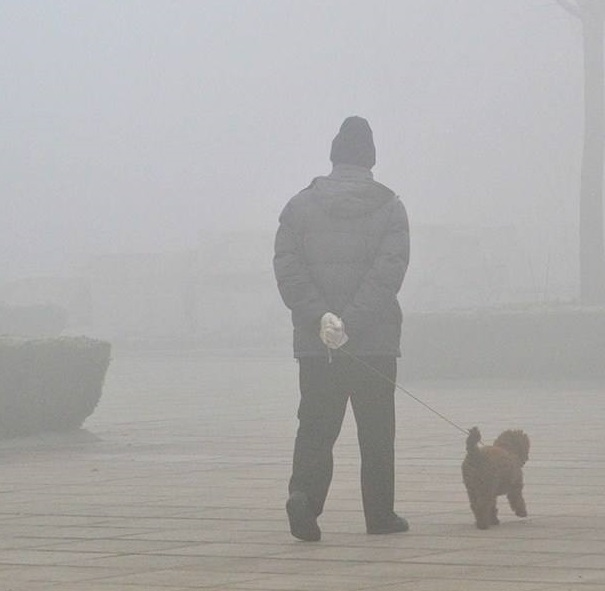person: (268, 111, 416, 547)
